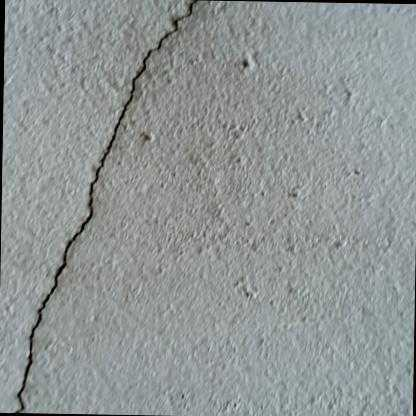crack: (14, 0, 197, 413)
